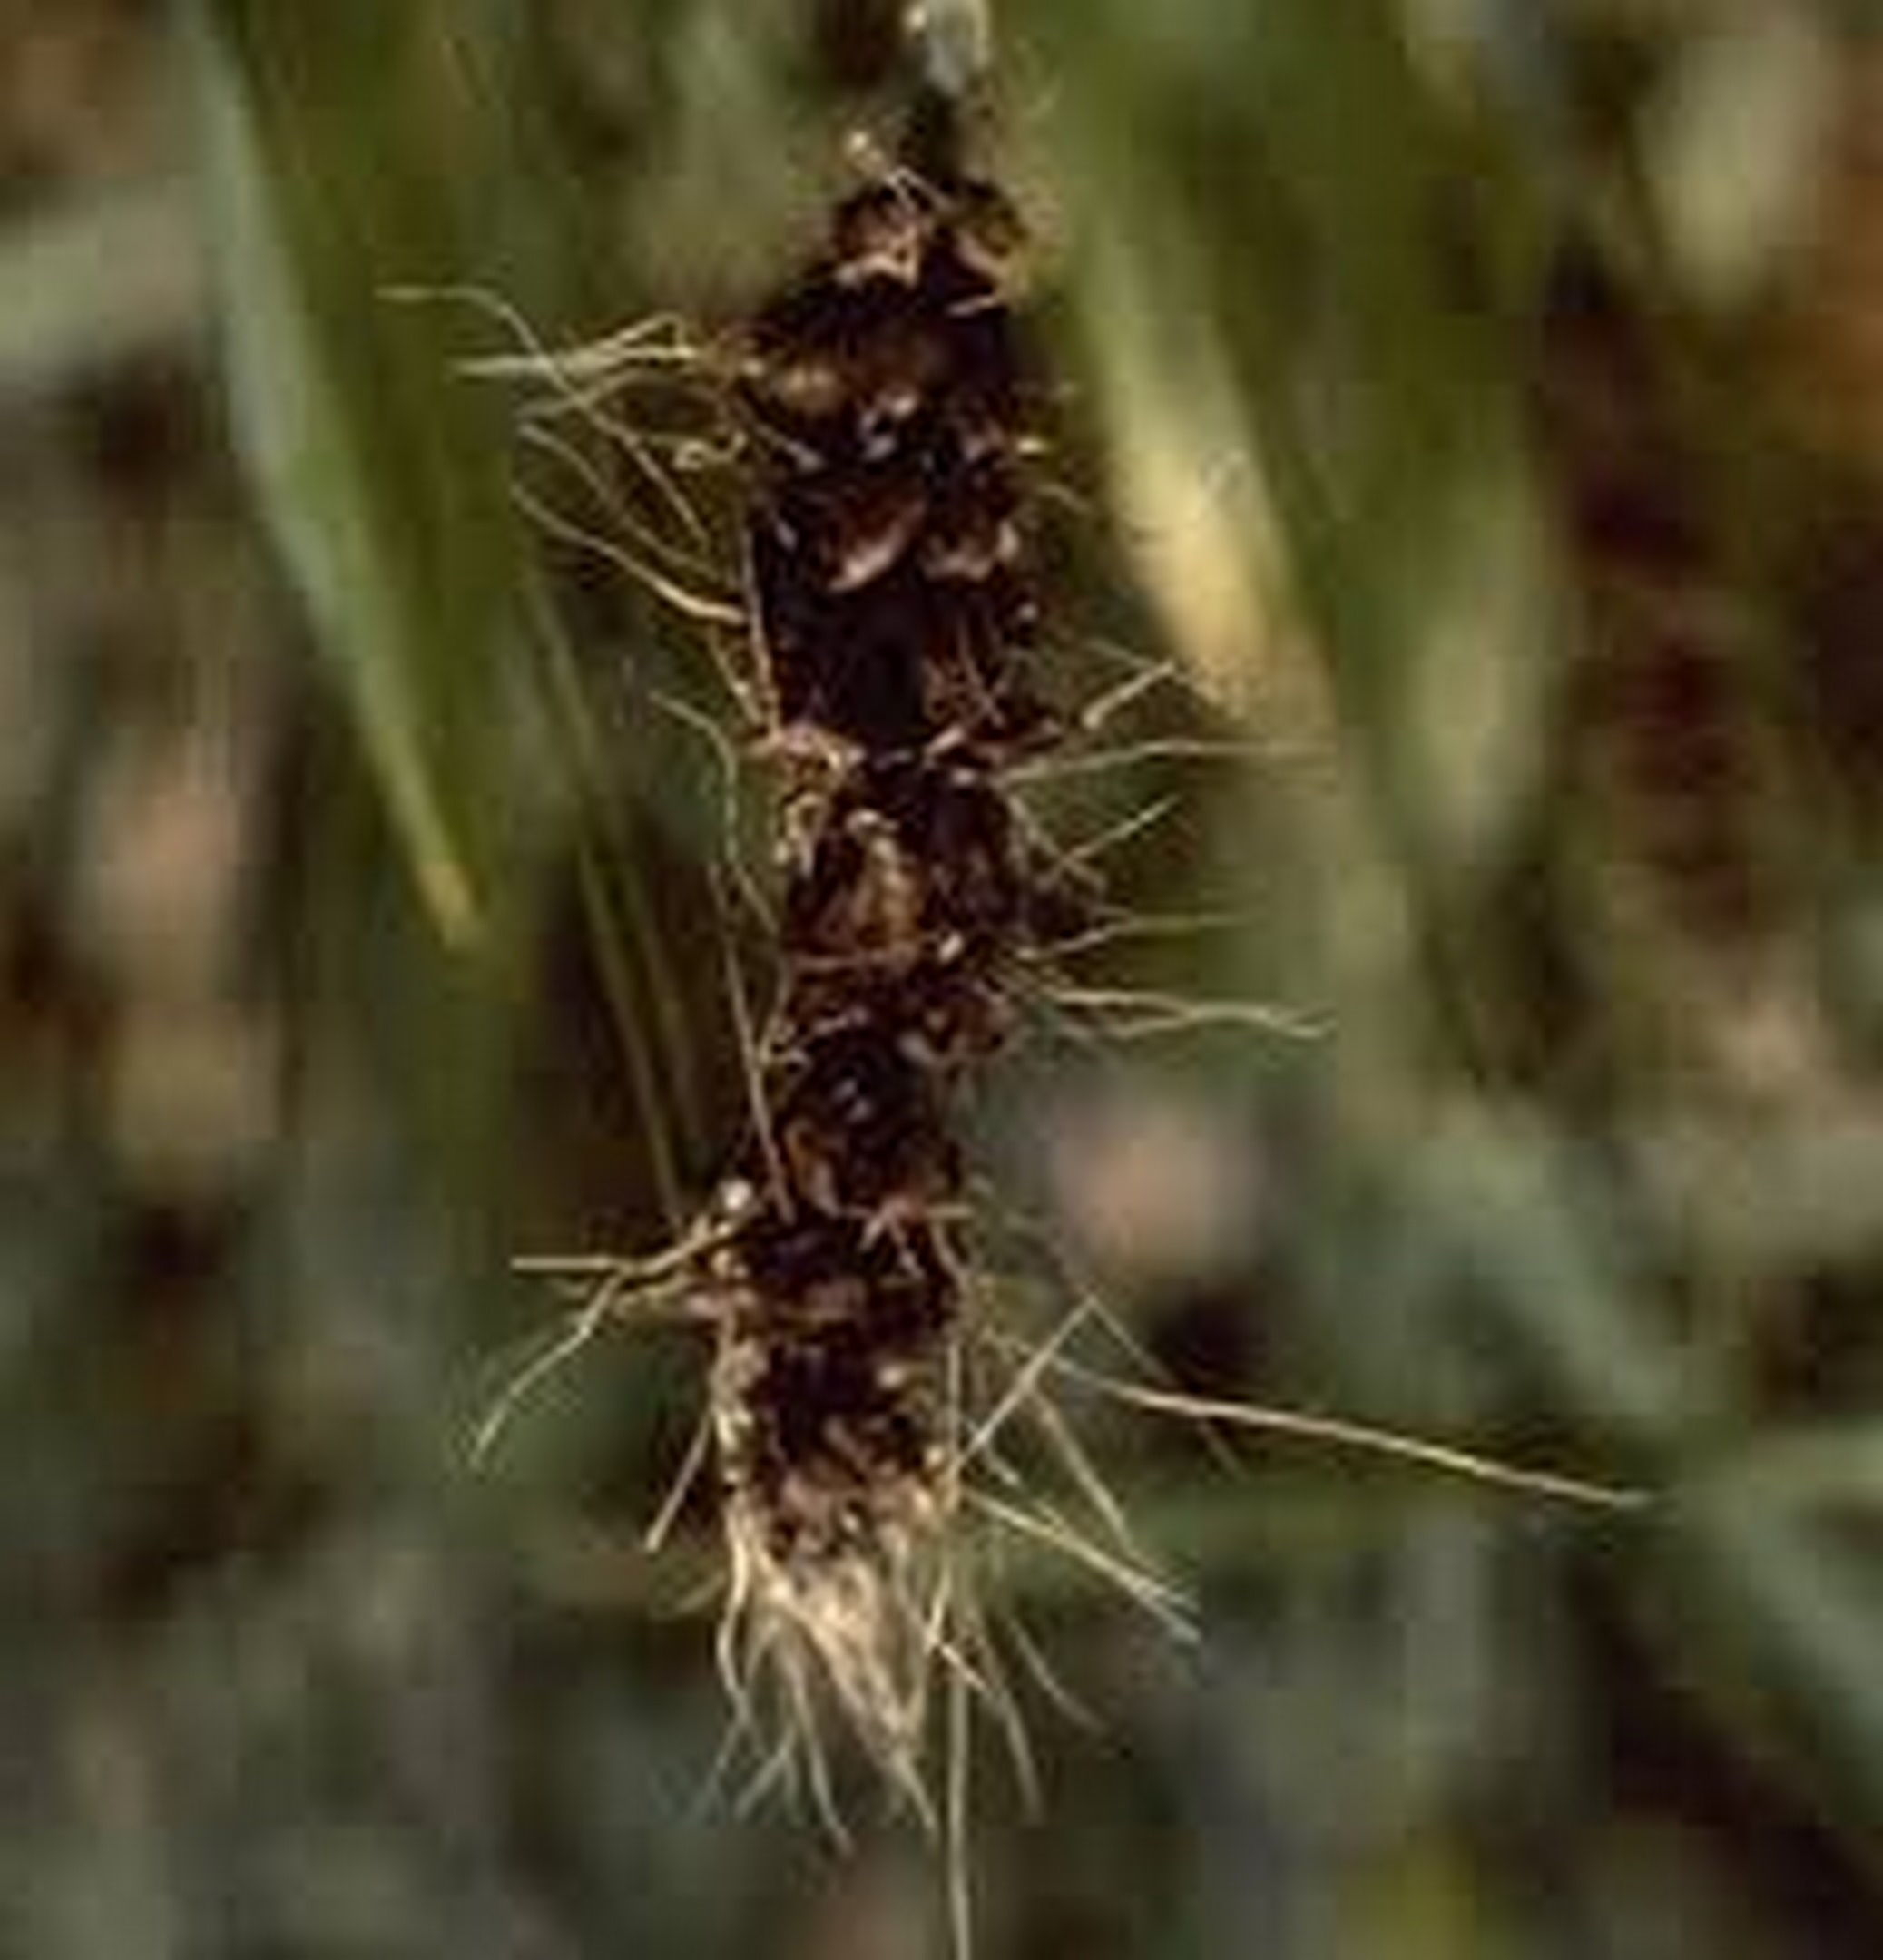Wheat Loose Smut: (553, 121, 1164, 1787)
